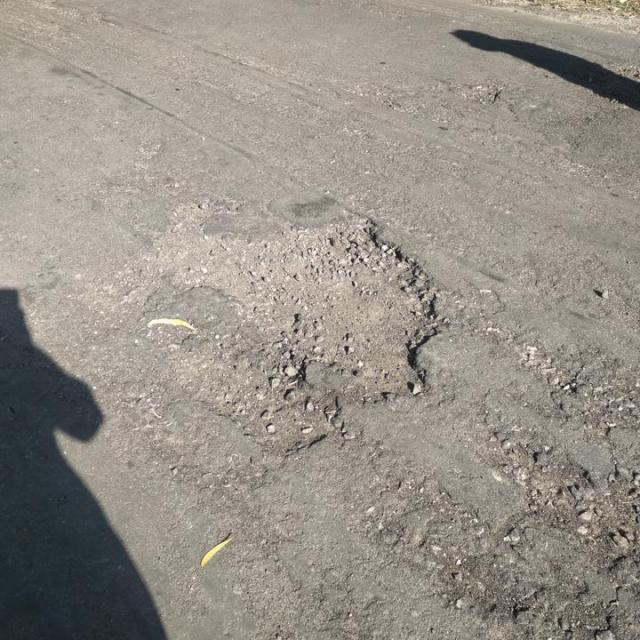Pothole: (119, 199, 448, 459)
